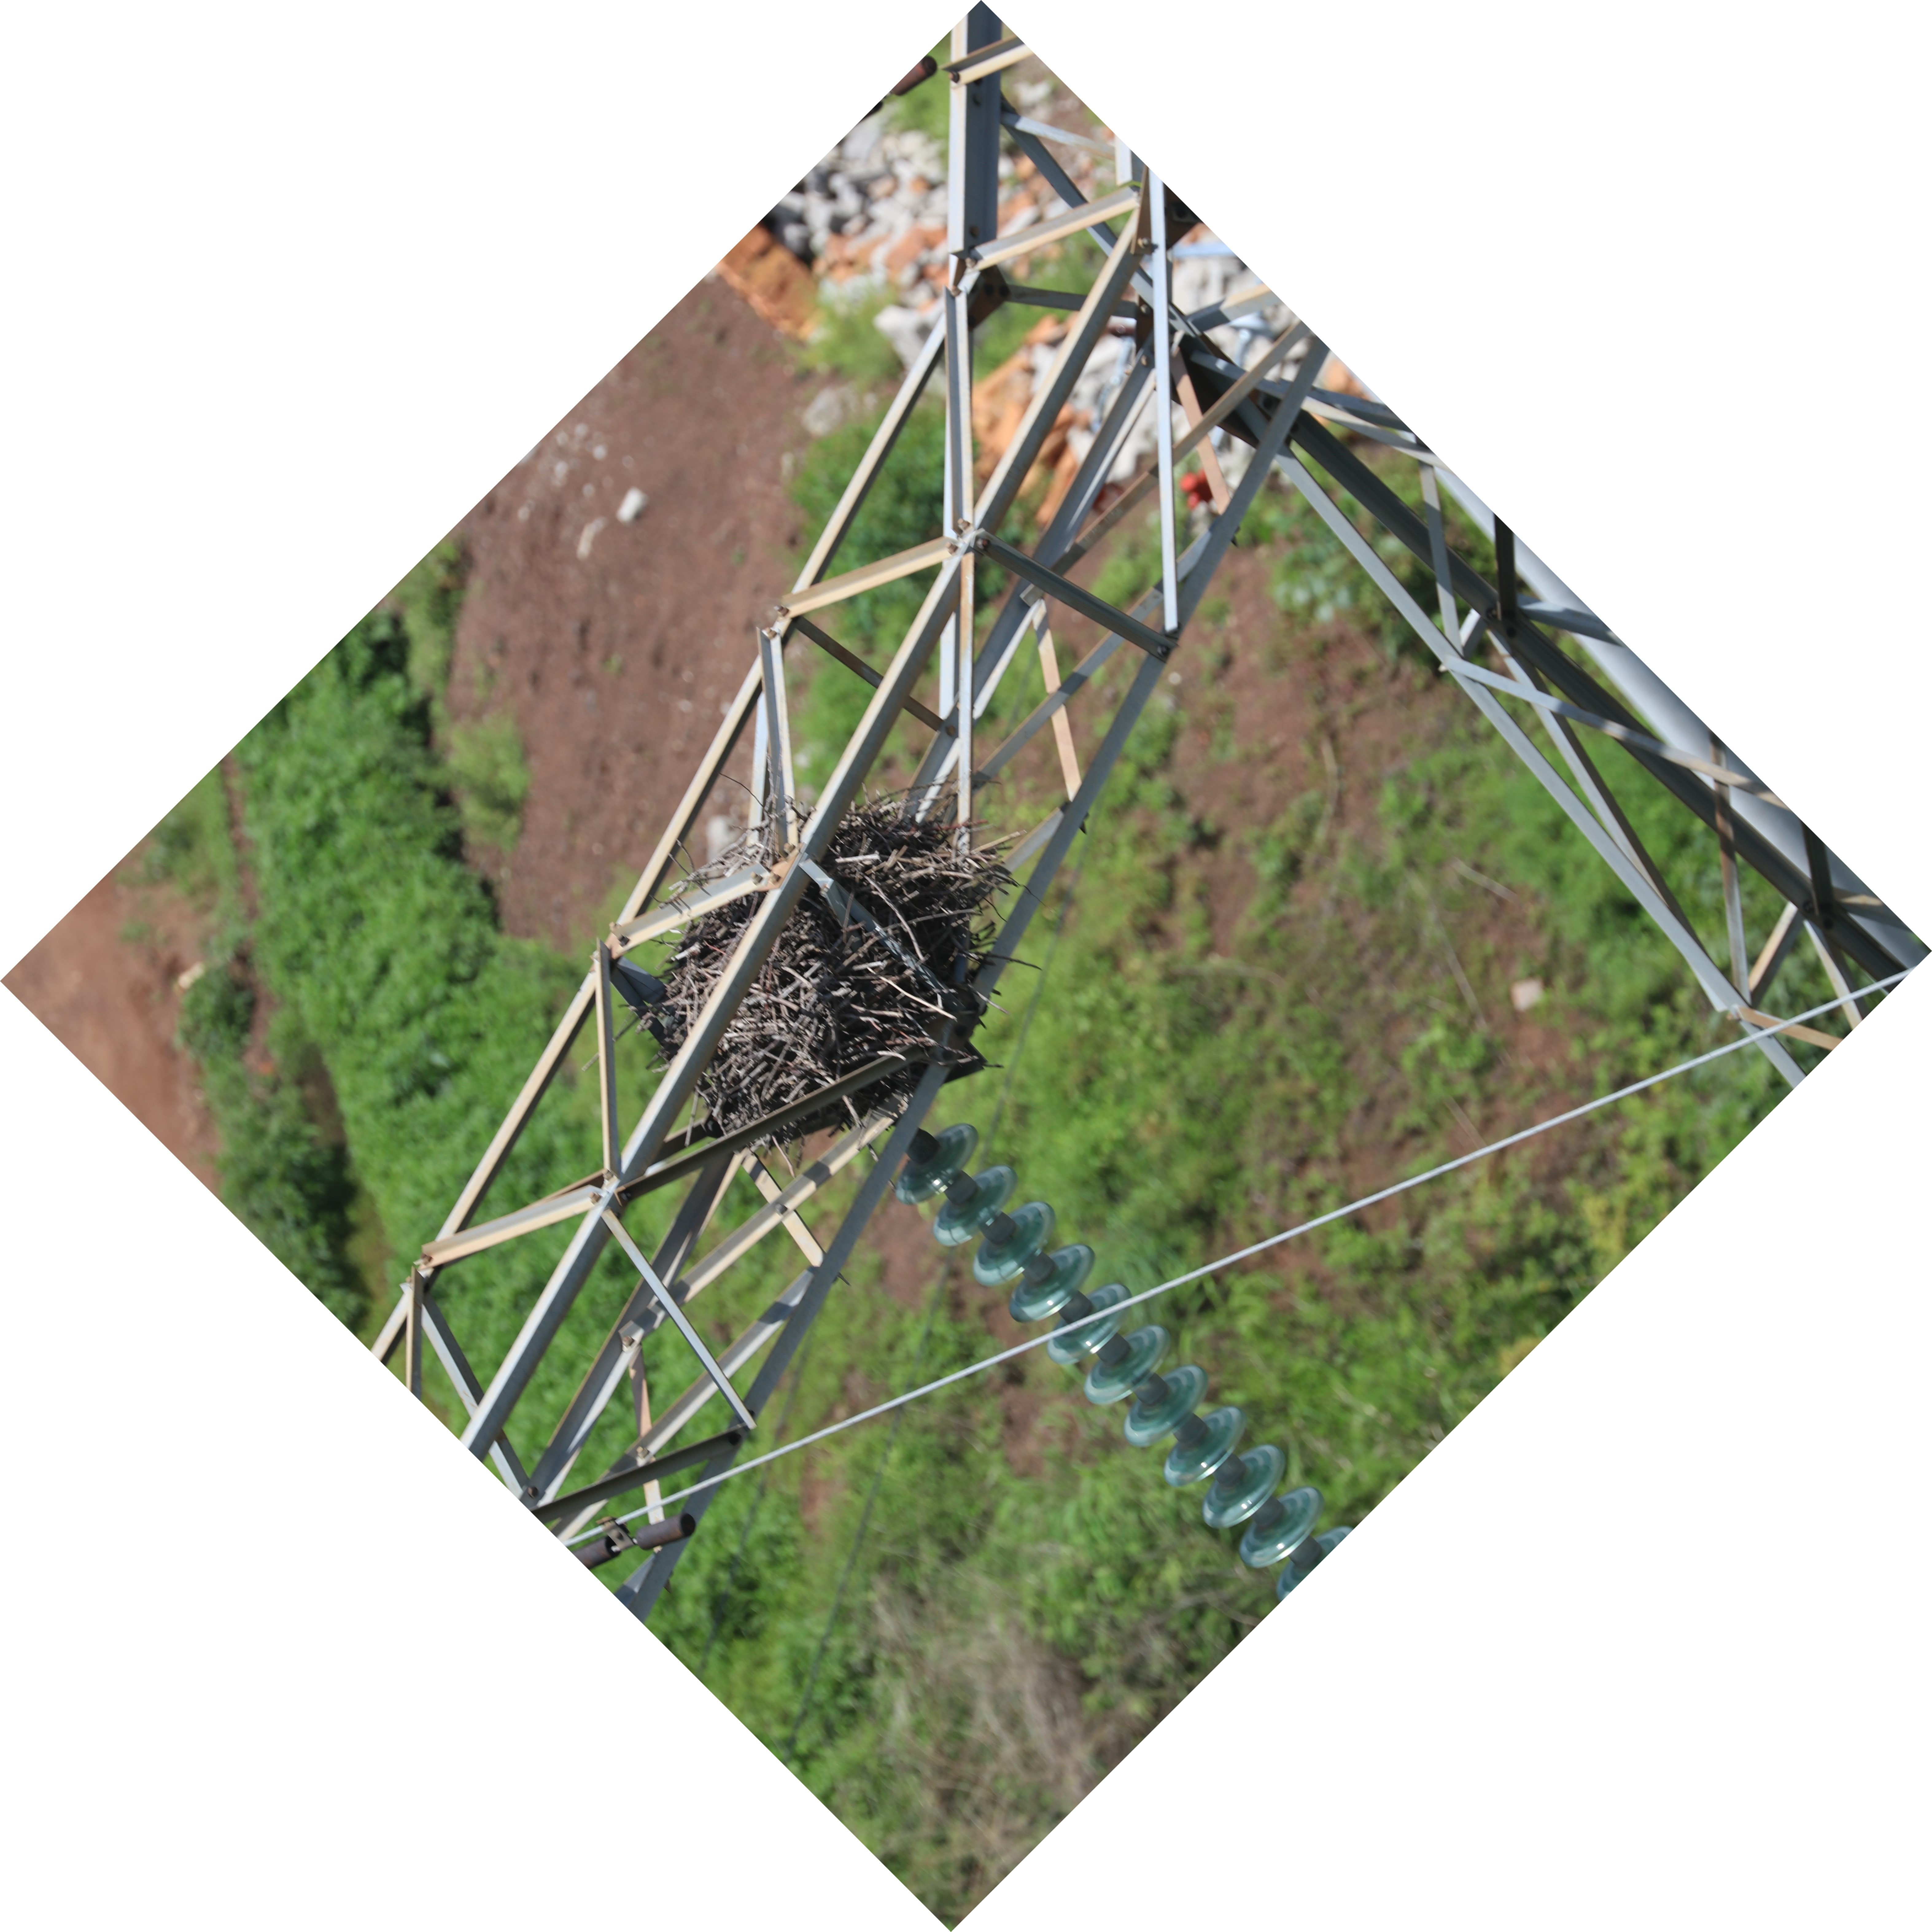niaowo: (593, 791, 1035, 1168)
